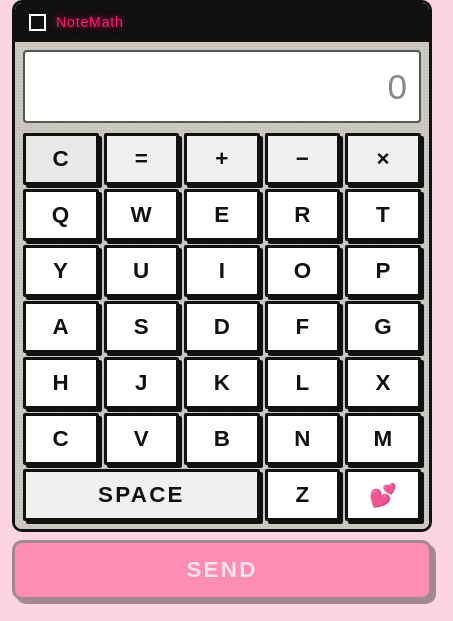
Test: appending characters › clicking 💕 appends the heart emoji
Click the button "💕" at [383, 495], box [345,469,421,521]
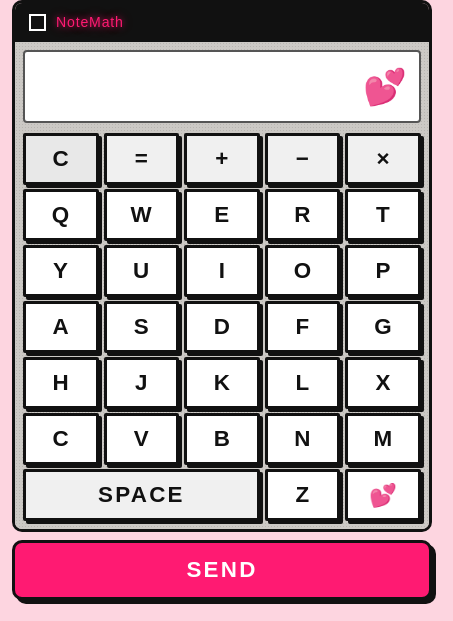
Expected: the 1st text "💕" is shown, [363,62,407,111]
